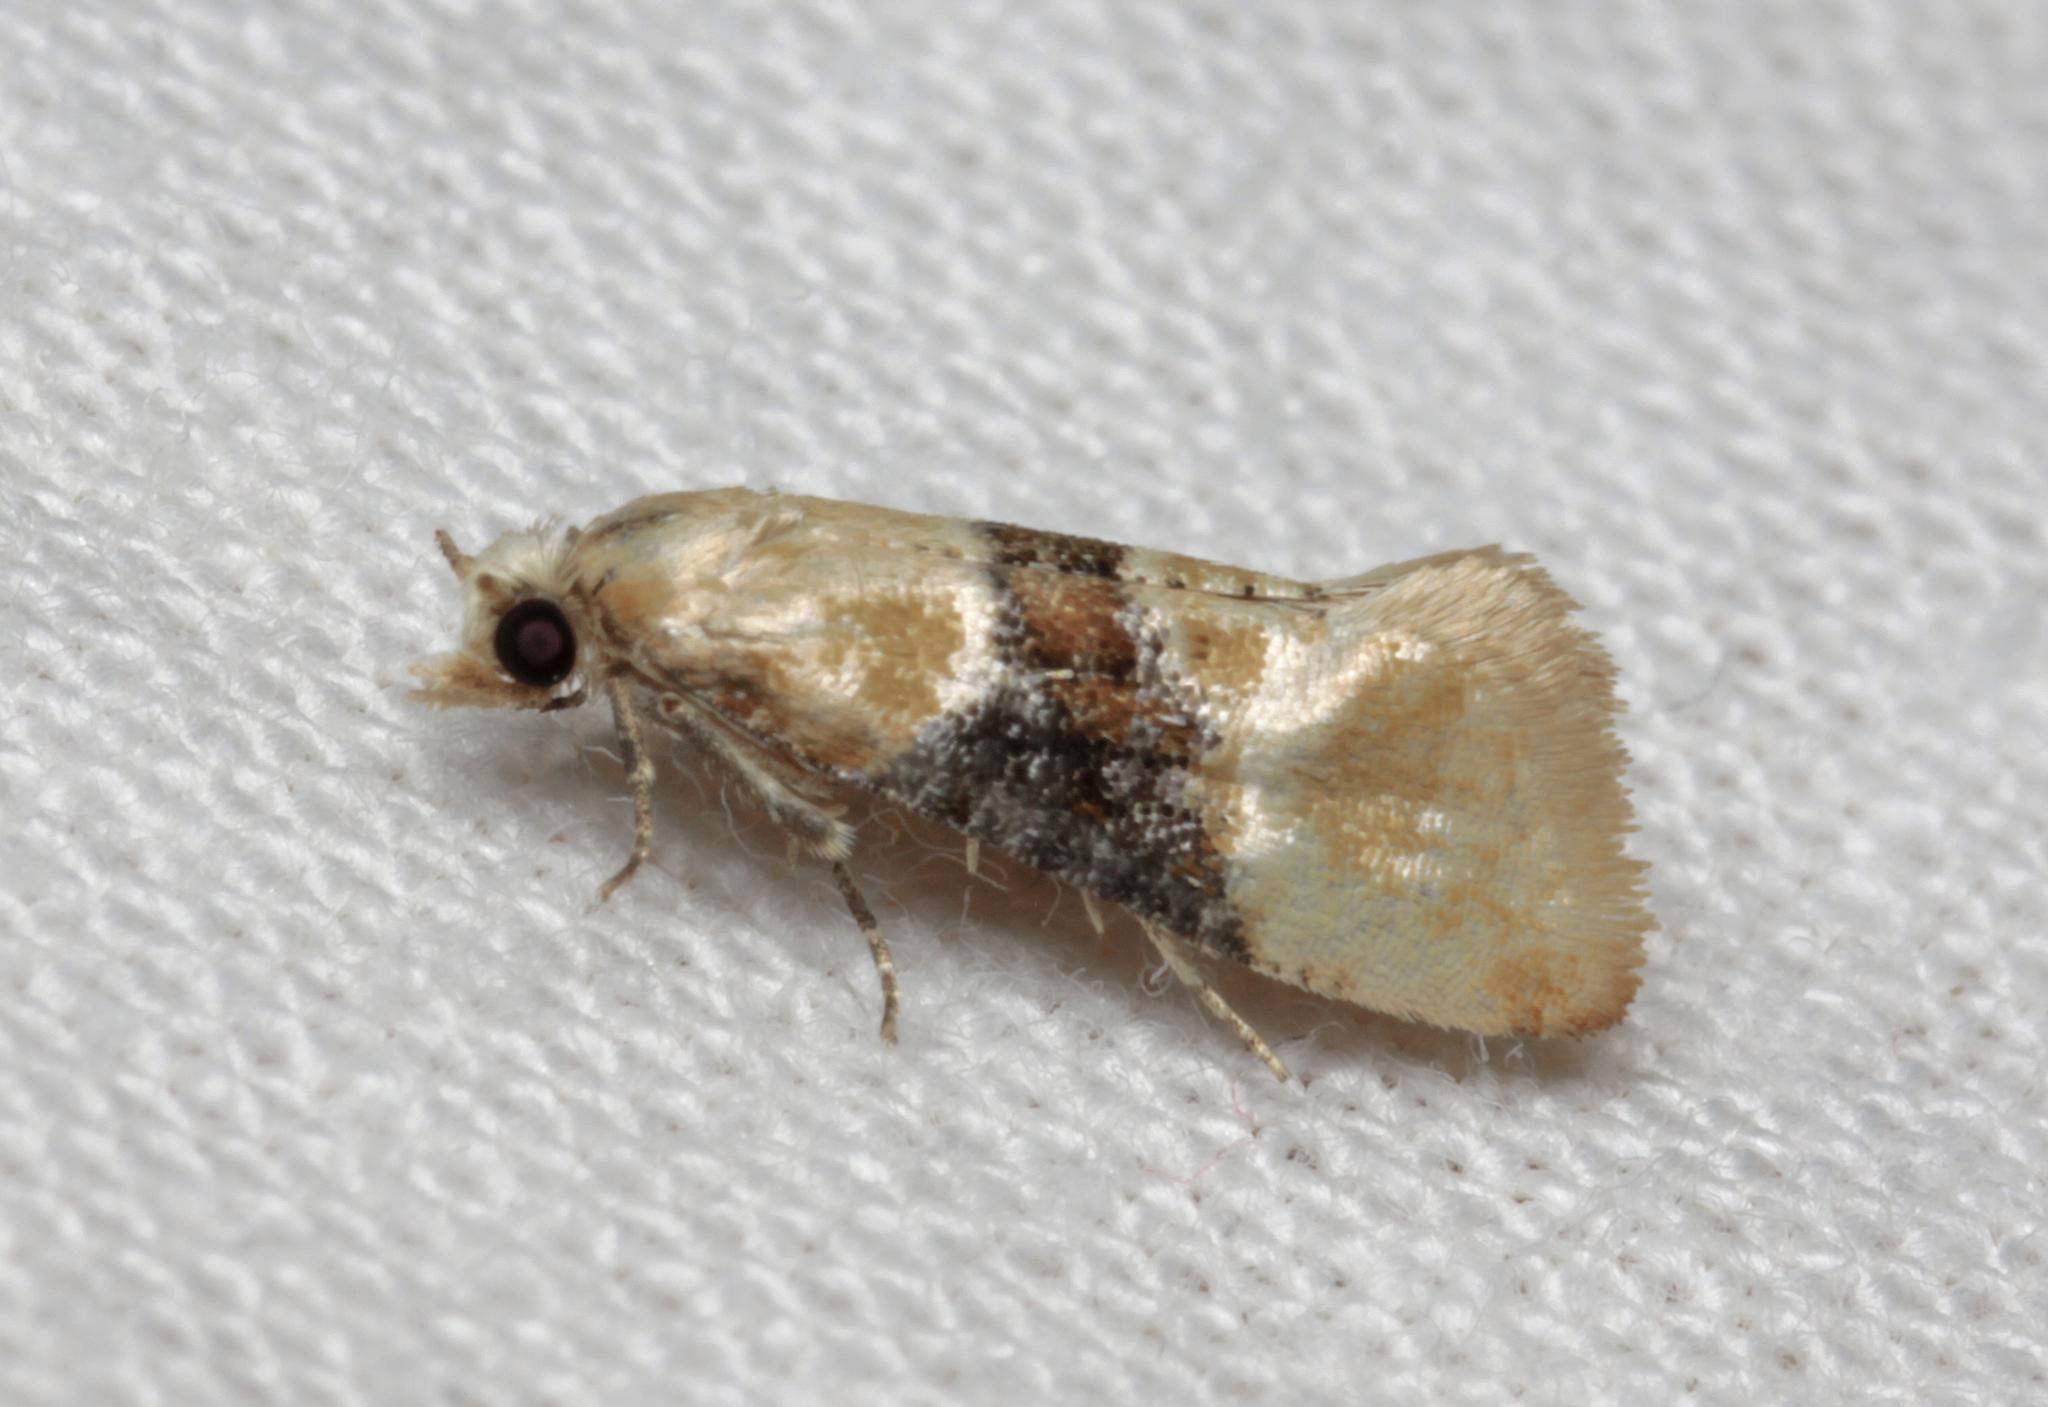Eupoecilia Ambiguella: (406, 476, 1662, 1091)
